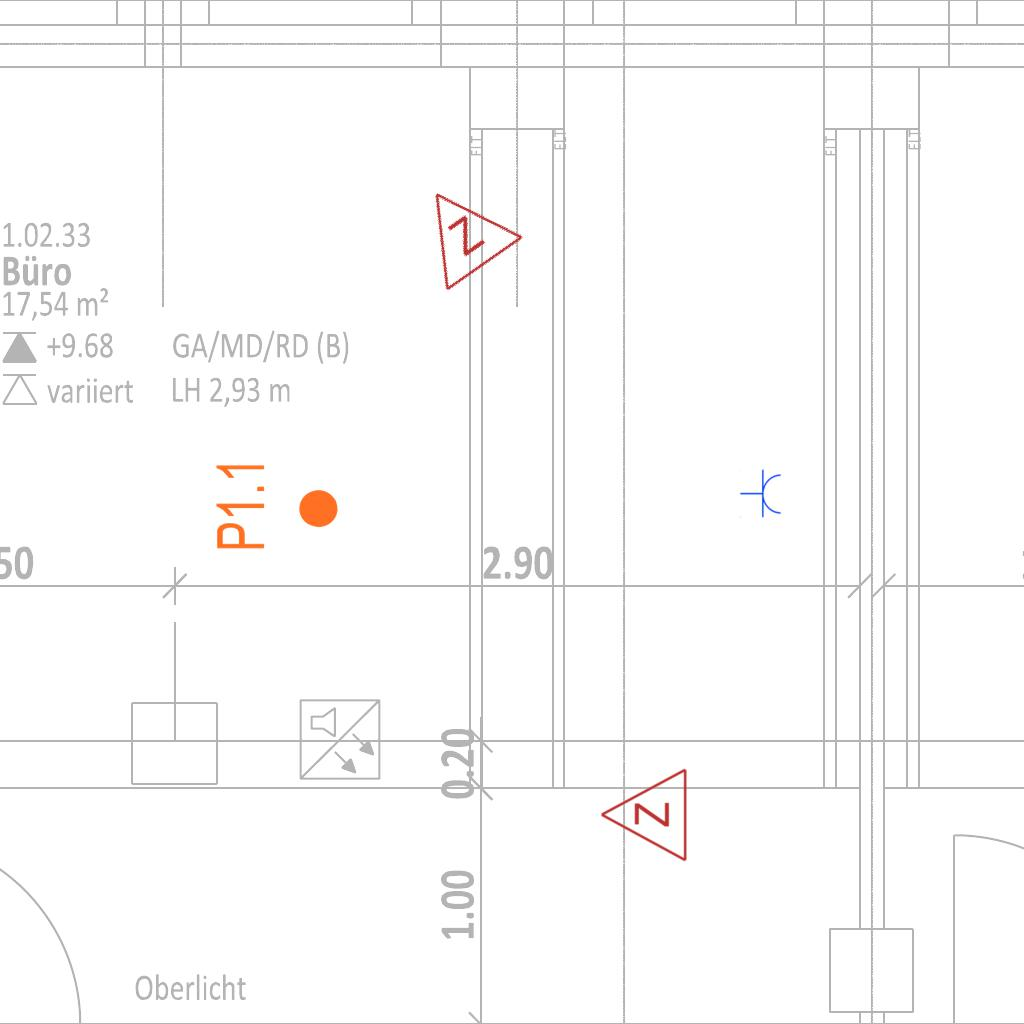Downlight_LED_Einbauleuchten_Flur: (213, 459, 341, 552)
Schukosteckdose_einfach: (740, 469, 783, 519)
Zimmersignalleuchte: (391, 160, 529, 300), (594, 767, 694, 865)
